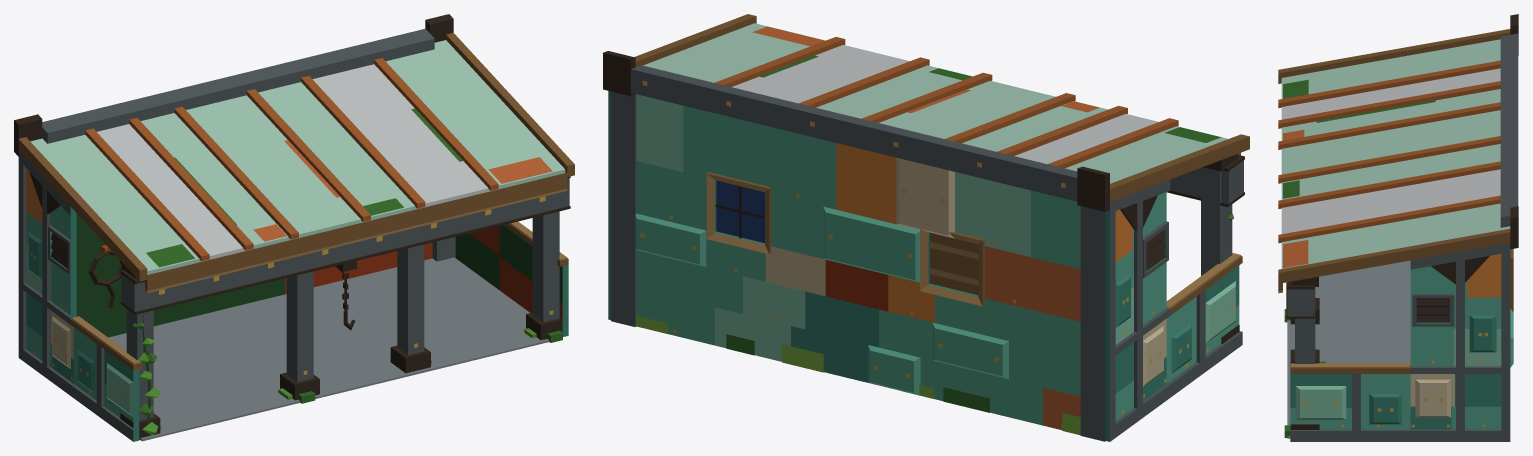
File: machine-shed-be7361.glb
3 views of the same model, side by side, from view 1: azimuth 30°, elevation 25°; view 2: azimuth 150°, elevation 25°; view 3: azimuth 270°, elevation 25° (orthographic). The views are drawn at different scales.
Parts seen in each view (by area): view 1: shed, hose-mesh; view 2: shed; view 3: shed.
Boxes of the visible parts, bbox=[...] form: shed: bbox=[14, 14, 574, 441]; hose-mesh: bbox=[88, 250, 121, 308]; shed: bbox=[603, 14, 1249, 441]; shed: bbox=[1278, 14, 1518, 441].
Bounding box in the file's own units: 8 × 4.12 × 4.
